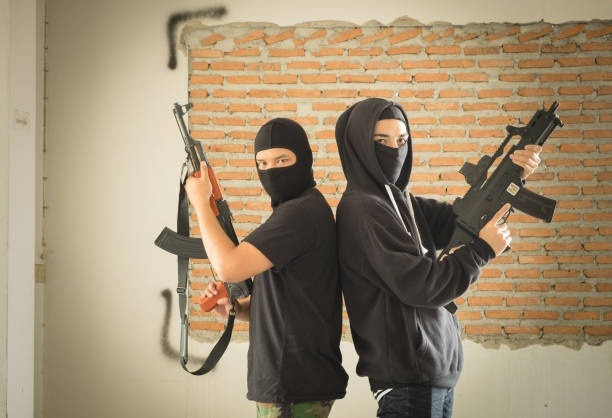gun: (157, 101, 253, 314), (445, 100, 569, 264)
person: (337, 96, 470, 418), (241, 113, 337, 418)
